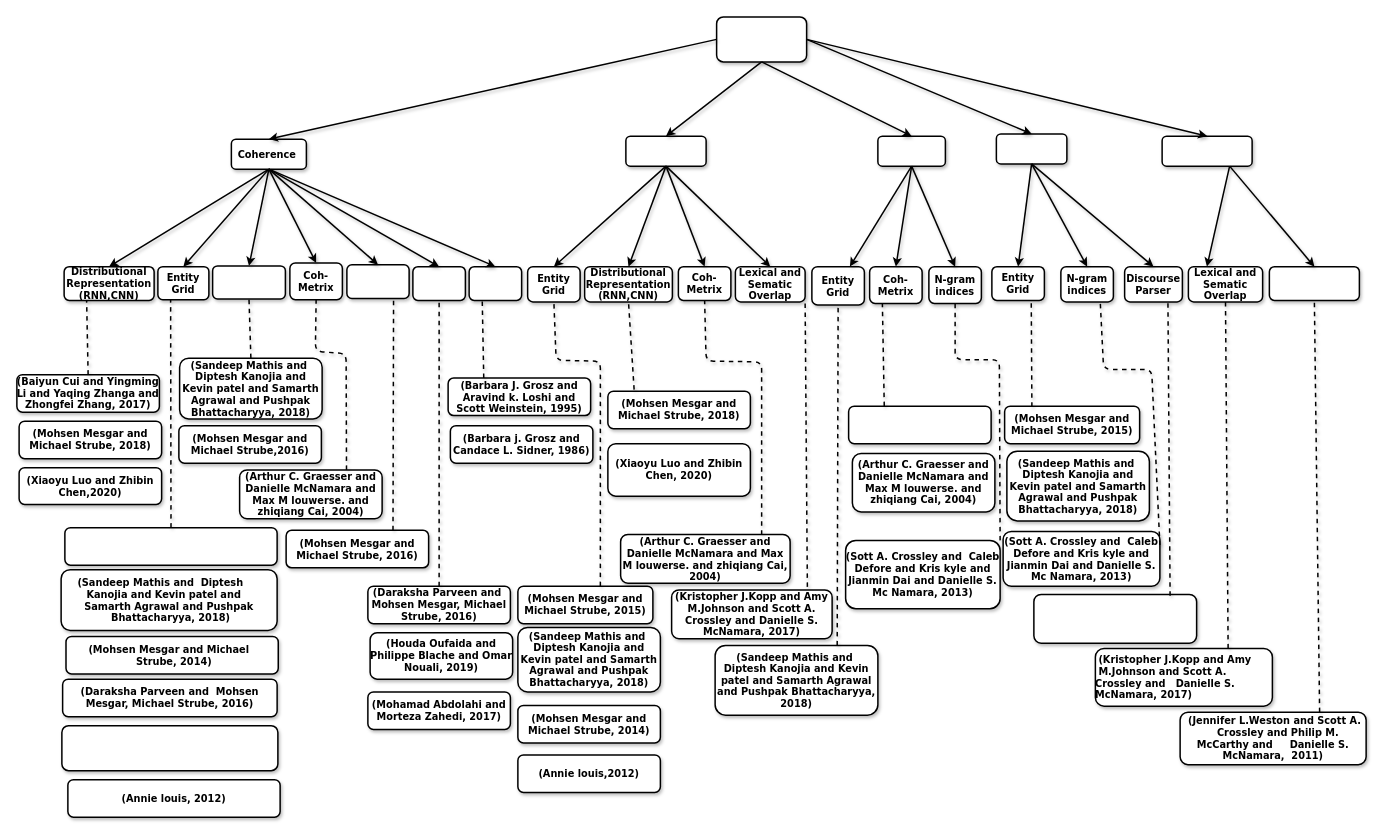
Some shapes in this 1384 by 836 pixel diagram are drawn without their labels. Here are the shapes that lost their labels. From the top down, the centre of each, then its label:
pixel 762 40: Text Quality
pixel 666 152: Readability
pixel 912 152: Cohesion
pixel 1032 150: Rhetorical Structural
pixel 1207 152: Lexical Analysis
pixel 249 283: Word Embedding
pixel 378 282: Lexical coherence Graph
pixel 439 284: State-Of-Art
pixel 495 284: DP/DSP
pixel 1314 284: no. of proposition, Coh-metrix
pixel 920 425: (Scott A. Crossley and Danielle S. McNamara, 2011)
pixel 171 547: (Mirella Lapata and Regina Barzilay, 2005)
pixel 1116 619: (Jan Snajder and Tamara Sladoljev Agejev and Svjetlana kolic Vehovec, 2019)
pixel 170 749: ( Hao Xiong and Zhongjun He and Hua Wu and Haifeng Wang , 2019)
